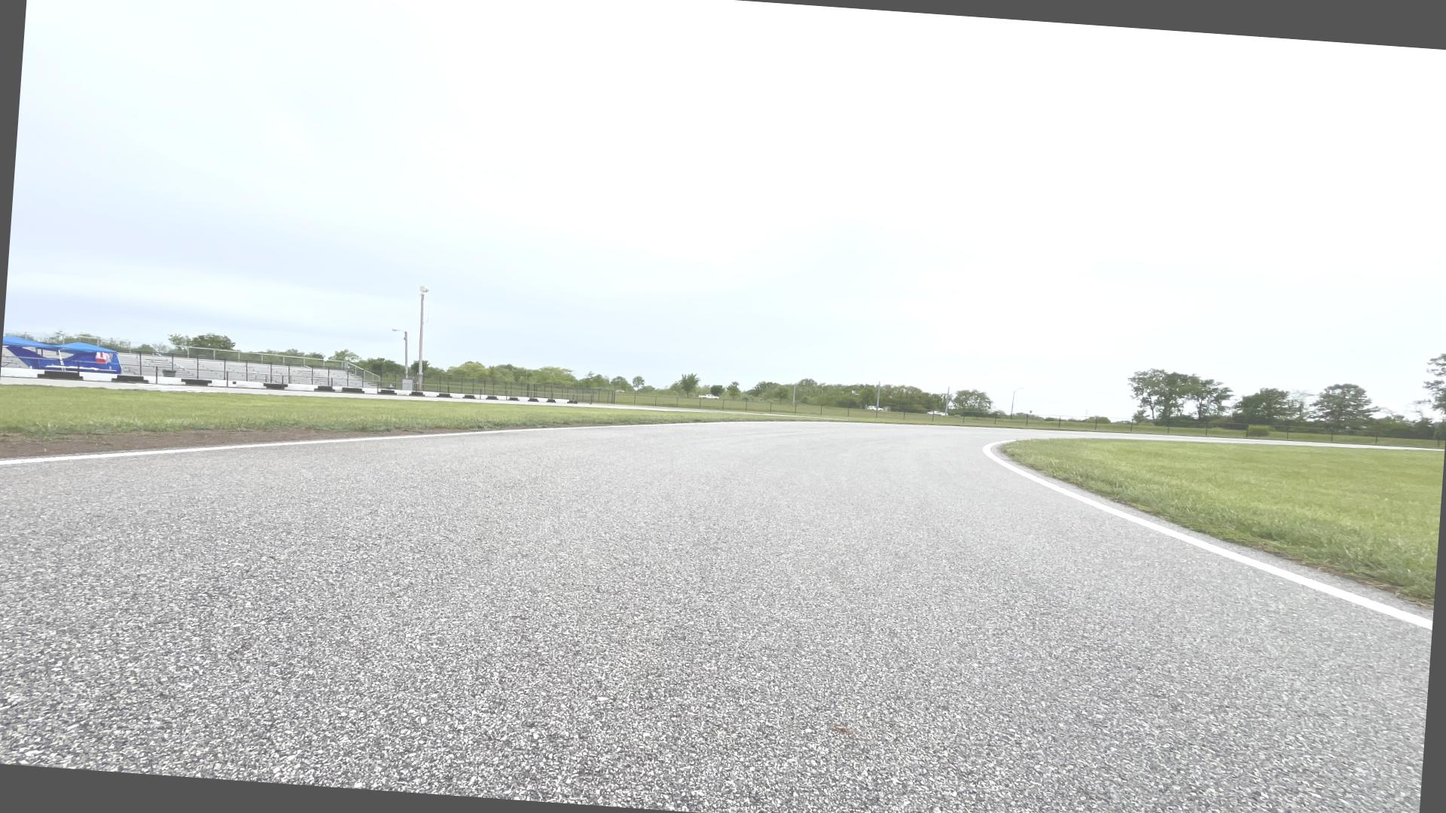white-line: (981, 437, 1432, 632), (0, 419, 863, 467)
